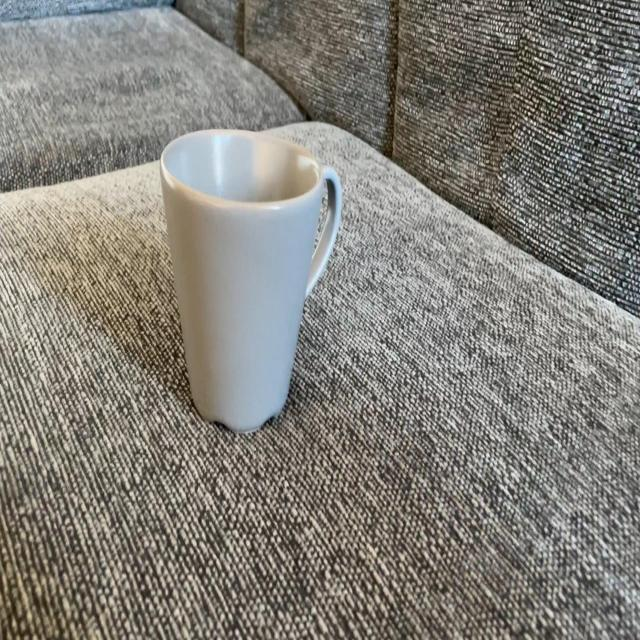cup: (154, 125, 344, 434)
